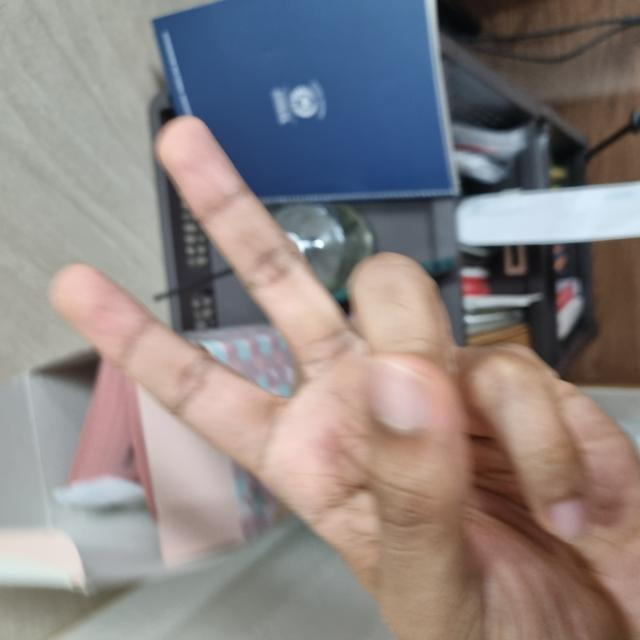Scissors: (61, 52, 521, 637)
